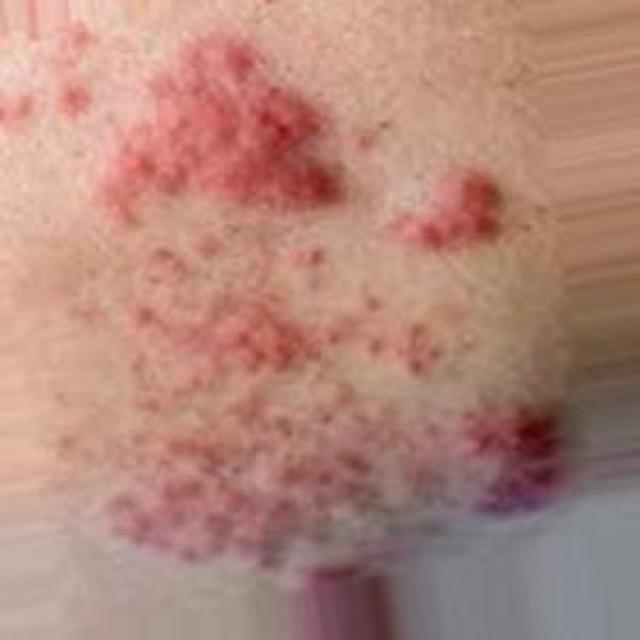Shingles: (0, 3, 571, 594)
